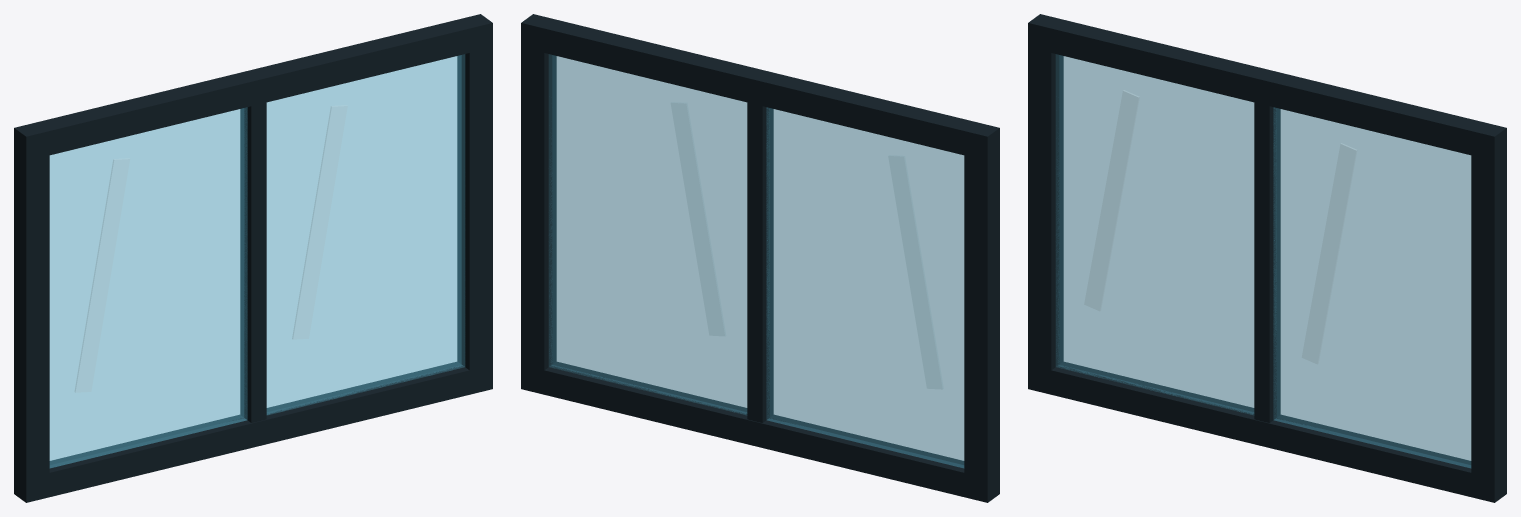
Rendered from window_2pan_1level.glb.
3 views of the same model, side by side, from view 1: azimuth 30°, elevation 25°; view 2: azimuth 150°, elevation 25°; view 3: azimuth 330°, elevation 25° (orthographic).
Parts seen in each view (by area): view 1: Glass_Pane_1, Glass_Pane_2, Frame_Top, Frame_Bottom, Frame_Left, Frame_Right, Mullion_1, Reflection_Stripe_1, Reflection_Stripe_2; view 2: Glass_Pane_1, Glass_Pane_2, Frame_Top, Frame_Bottom, Frame_Left, Frame_Right, Mullion_1, Reflection_Stripe_2, Reflection_Stripe_1; view 3: Glass_Pane_2, Glass_Pane_1, Frame_Top, Frame_Bottom, Frame_Right, Frame_Left, Mullion_1, Reflection_Stripe_2, Reflection_Stripe_1.
Boxes of the visible parts, x1=… form: Glass_Pane_1: x1=49, y1=107, x2=247, y2=468; Glass_Pane_2: x1=266, y1=54, x2=464, y2=414; Frame_Top: x1=14, y1=14, x2=492, y2=160; Frame_Bottom: x1=14, y1=362, x2=492, y2=502; Frame_Left: x1=14, y1=152, x2=49, y2=478; Frame_Right: x1=457, y1=47, x2=492, y2=370; Mullion_1: x1=240, y1=102, x2=266, y2=422; Reflection_Stripe_1: x1=75, y1=159, x2=129, y2=391; Reflection_Stripe_2: x1=292, y1=106, x2=347, y2=338; Glass_Pane_1: x1=766, y1=107, x2=964, y2=468; Glass_Pane_2: x1=549, y1=54, x2=747, y2=415; Frame_Top: x1=521, y1=14, x2=999, y2=160; Frame_Bottom: x1=521, y1=362, x2=999, y2=502; Frame_Left: x1=964, y1=152, x2=999, y2=478; Frame_Right: x1=521, y1=47, x2=556, y2=370; Mullion_1: x1=747, y1=102, x2=773, y2=422; Reflection_Stripe_2: x1=671, y1=103, x2=724, y2=335; Reflection_Stripe_1: x1=889, y1=156, x2=941, y2=388; Glass_Pane_2: x1=1273, y1=107, x2=1471, y2=468; Glass_Pane_1: x1=1056, y1=54, x2=1254, y2=414; Frame_Top: x1=1028, y1=14, x2=1506, y2=160; Frame_Bottom: x1=1028, y1=362, x2=1506, y2=502; Frame_Right: x1=1471, y1=152, x2=1506, y2=478; Frame_Left: x1=1028, y1=47, x2=1063, y2=370; Mullion_1: x1=1254, y1=102, x2=1280, y2=422; Reflection_Stripe_2: x1=1302, y1=143, x2=1356, y2=363; Reflection_Stripe_1: x1=1084, y1=90, x2=1139, y2=310.
Size of the model in its own units: 2 by 1.5 by 0.09.
